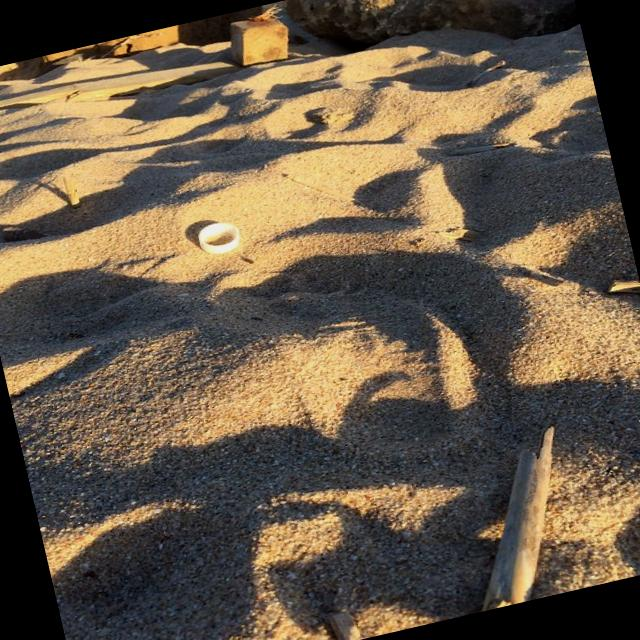Trash: (188, 209, 251, 261)
